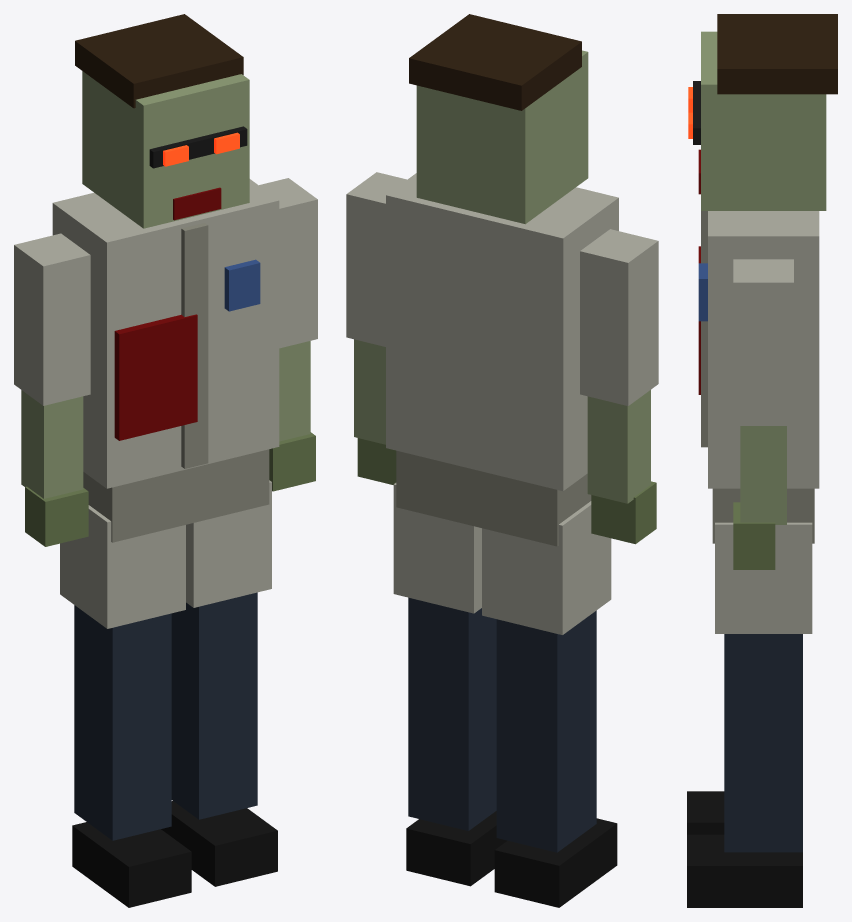
The model's file is zombie_scientist.glb.
3 views of the same model, side by side, from view 1: azimuth 30°, elevation 25°; view 2: azimuth 150°, elevation 25°; view 3: azimuth 270°, elevation 25° (orthographic). The views are drawn at different scales.
Parts seen in each view (by area): view 1: Torso, LegR, LegL, Head, ArmR, ArmL, Hips; view 2: Torso, LegR, LegL, Head, ArmR, ArmL, Hips; view 3: LegL, Head, Torso, ArmL, Hips, LegR.
Boxes of the visible parts, <box> form: Torso: <box>52,179,279,488</box>; LegR: <box>60,505,191,907</box>; LegL: <box>161,480,277,886</box>; Head: <box>75,14,249,228</box>; ArmR: <box>14,233,90,546</box>; ArmL: <box>259,178,317,491</box>; Hips: <box>83,449,269,542</box>; Torso: <box>386,173,618,490</box>; LegR: <box>482,501,617,907</box>; LegL: <box>393,483,507,886</box>; Head: <box>409,14,588,224</box>; ArmR: <box>580,229,658,544</box>; ArmL: <box>346,172,406,484</box>; Hips: <box>396,450,591,546</box>; LegL: <box>687,522,812,907</box>; Head: <box>688,14,837,210</box>; Torso: <box>698,211,819,488</box>; ArmL: <box>733,259,793,569</box>; Hips: <box>712,488,814,543</box>; LegR: <box>687,791,724,834</box>.
Size of the model in its own units: 0.7 by 1.97 by 0.325.
